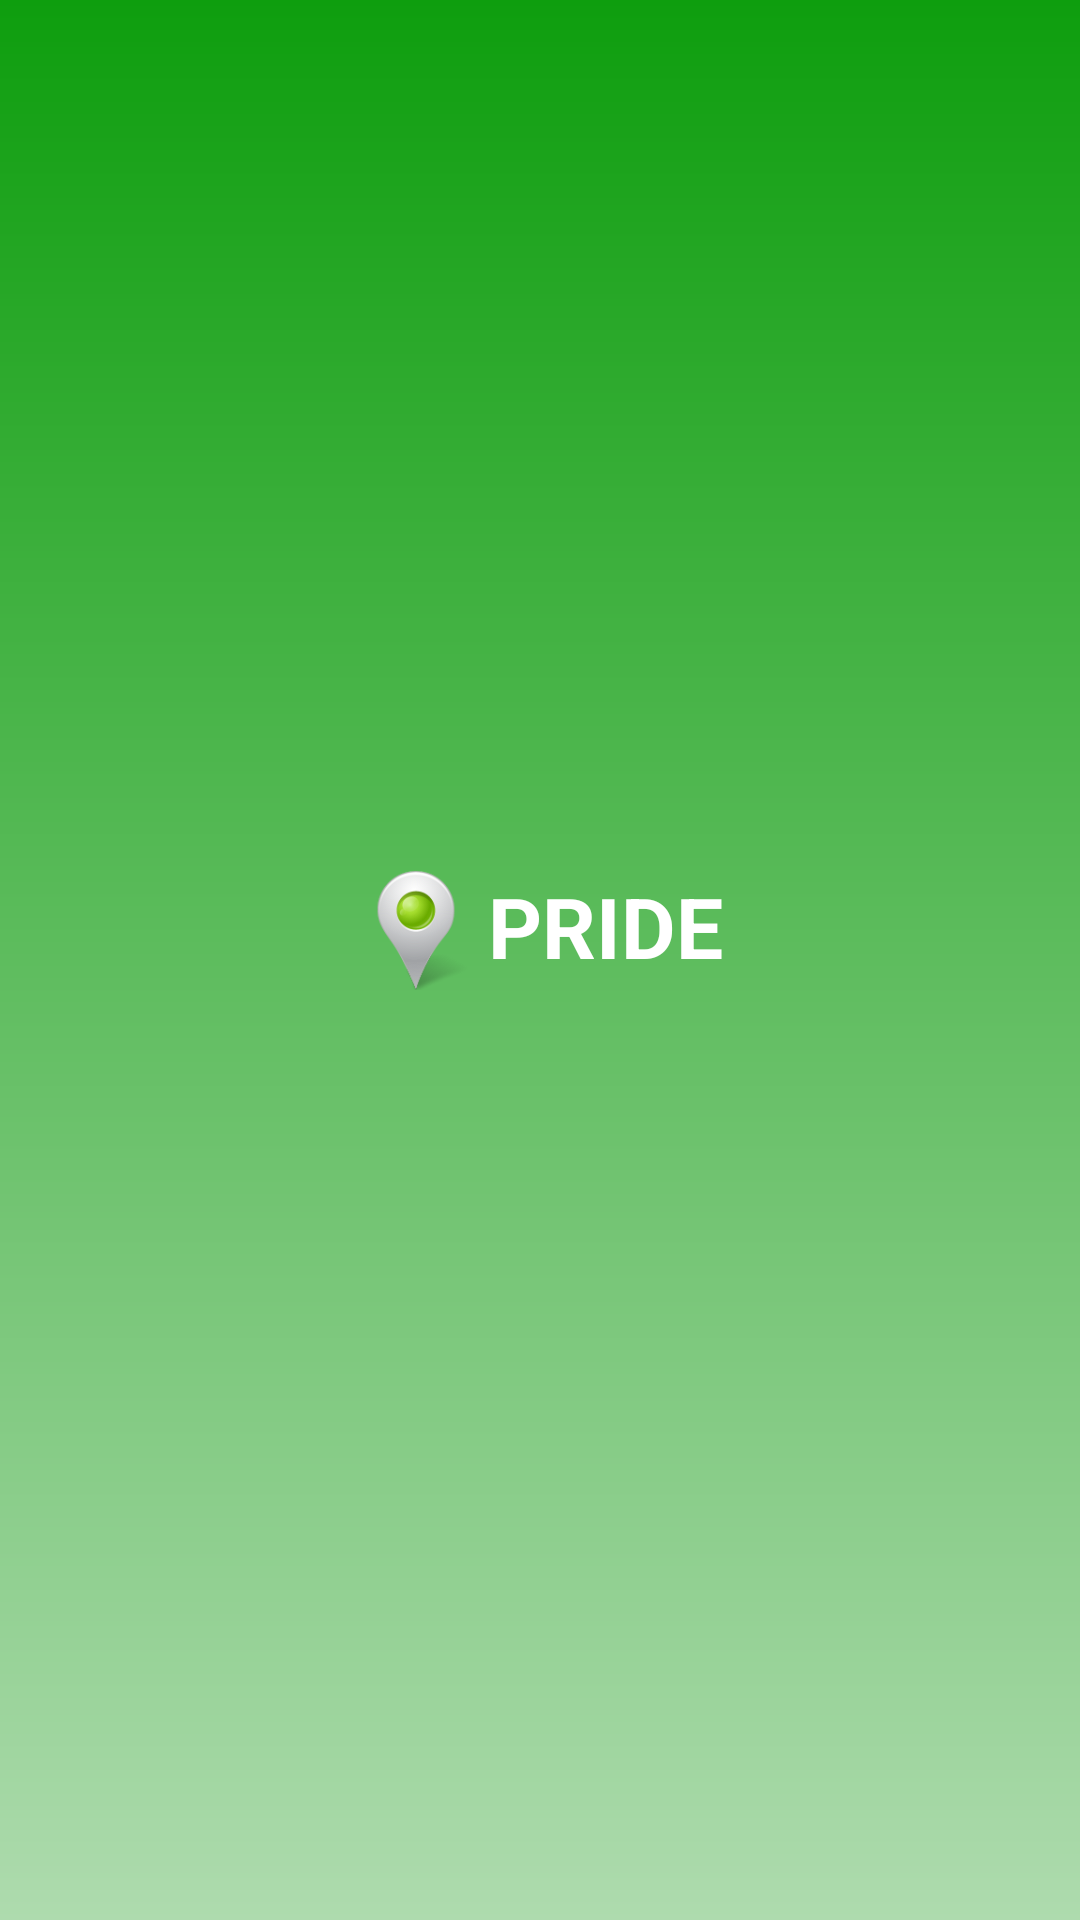

Locate icon controls on the screen. Image size 1080px×1920px, boxes as (x1, y1, x2, y2).
Location Icon: (377, 871, 455, 989)
